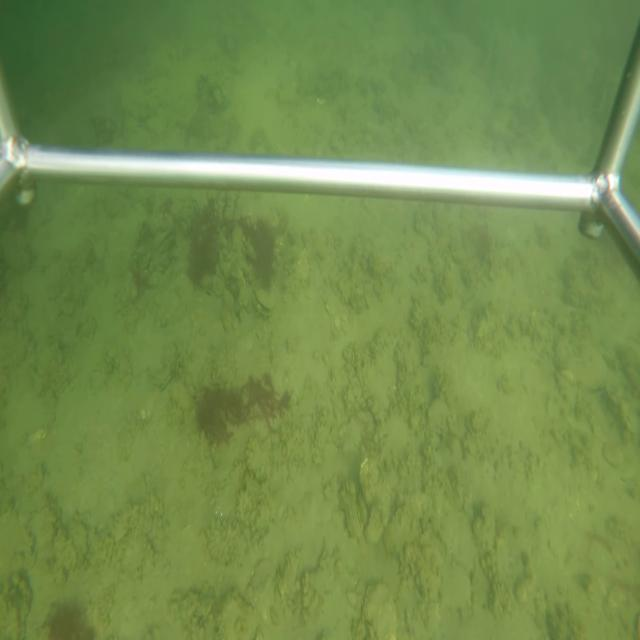Oyster-Closed: (340, 481, 365, 542)
Oyster-Open: (244, 273, 276, 321)
